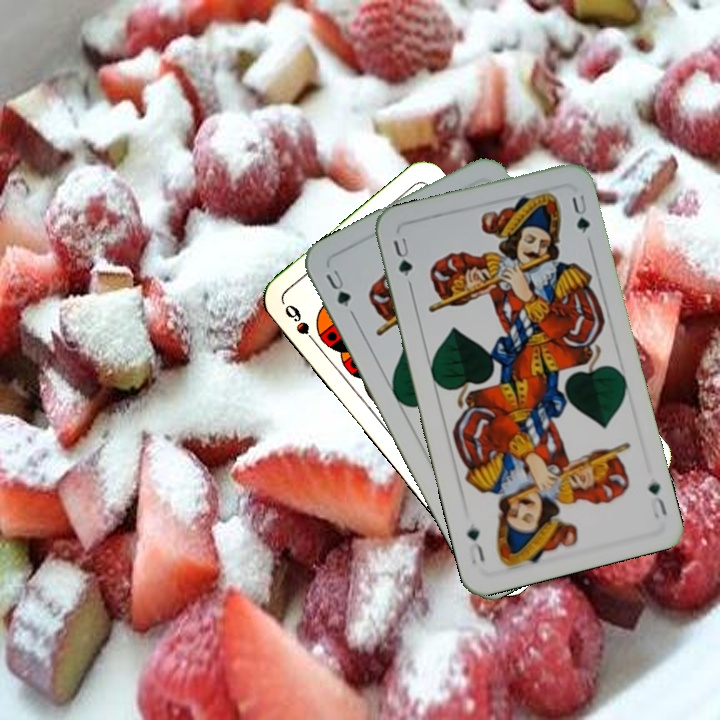GU: (321, 265, 354, 310), (388, 232, 415, 279), (644, 477, 669, 522)
S9: (280, 300, 322, 350)
